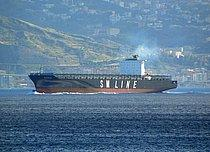Ship: (26, 57, 180, 98)
